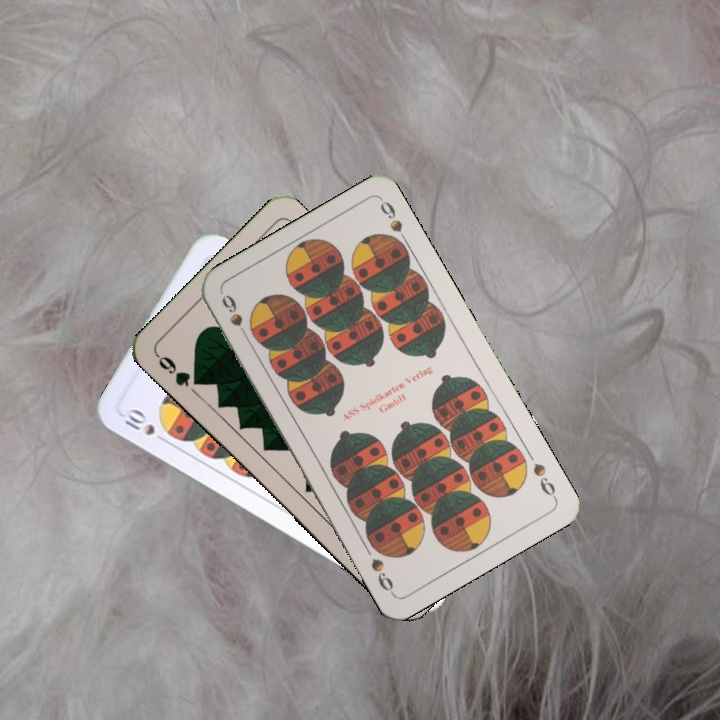G9: (152, 350, 206, 390)
S10: (118, 405, 171, 446)
S9: (217, 290, 253, 345), (528, 459, 559, 502)
